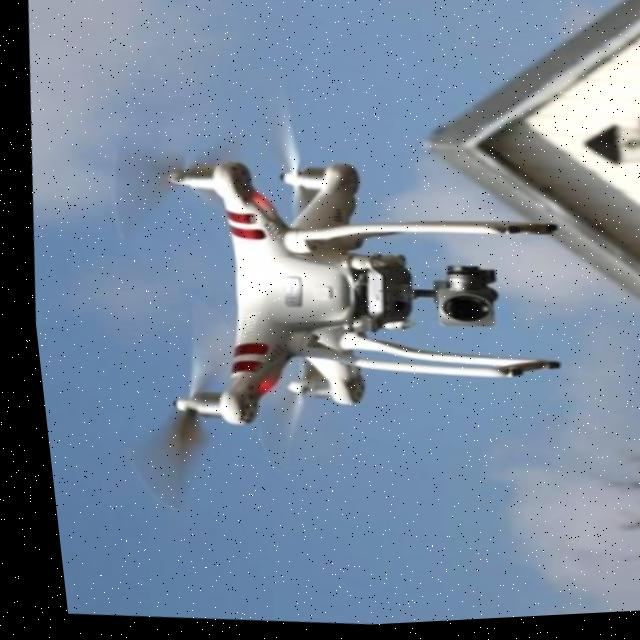drones: (46, 51, 619, 561)
